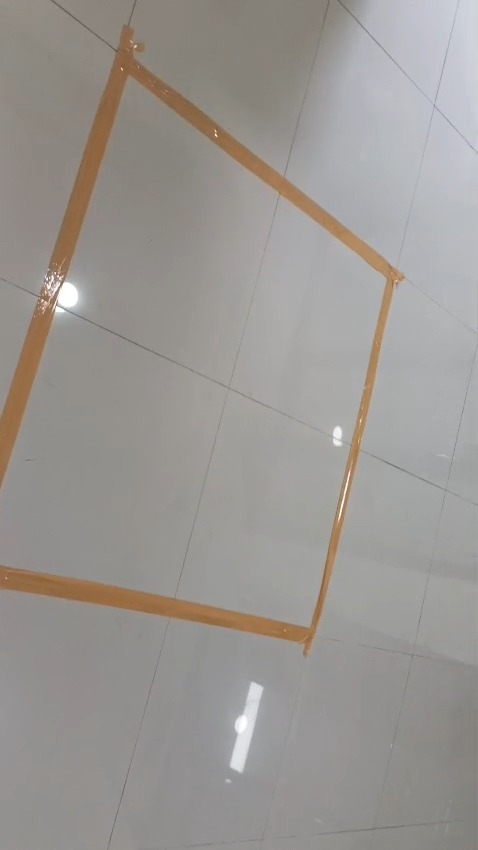floor marking: (0, 26, 403, 653)
